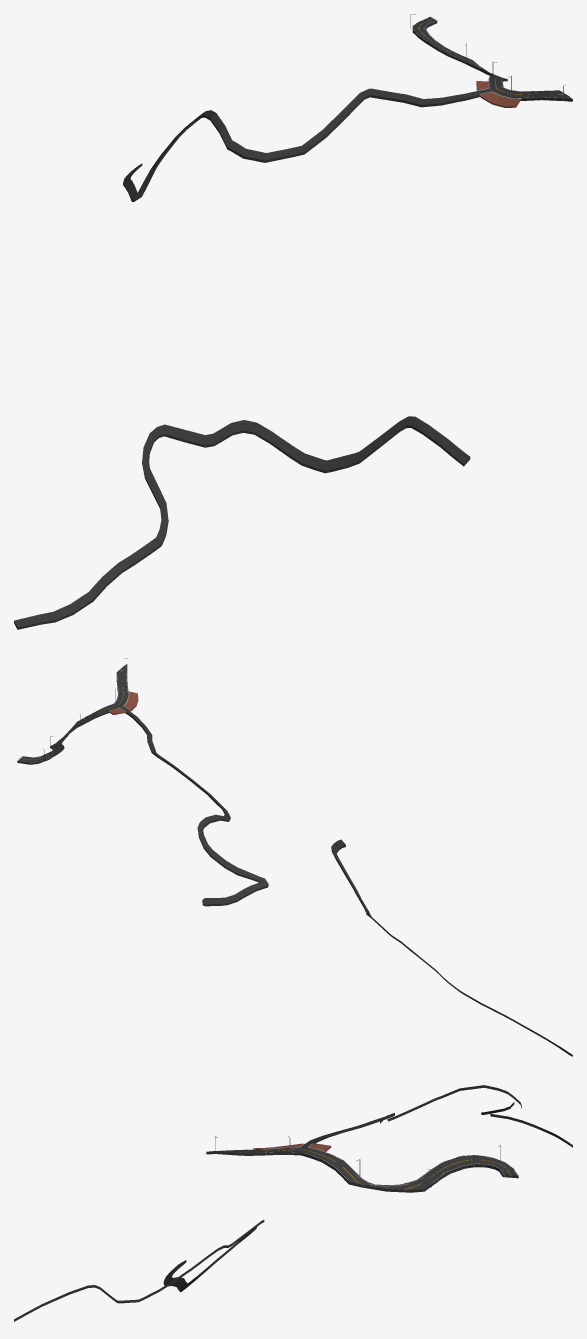
3 renders of one model, top to bottom at view 1: azimuth 30°, elevation 25°; view 2: azimuth 150°, elevation 25°; view 3: azimuth 270°, elevation 25°, orthographic. The views are drawn at different scales.
Bounding box in the file's own units: 297 × 195 × 229.
